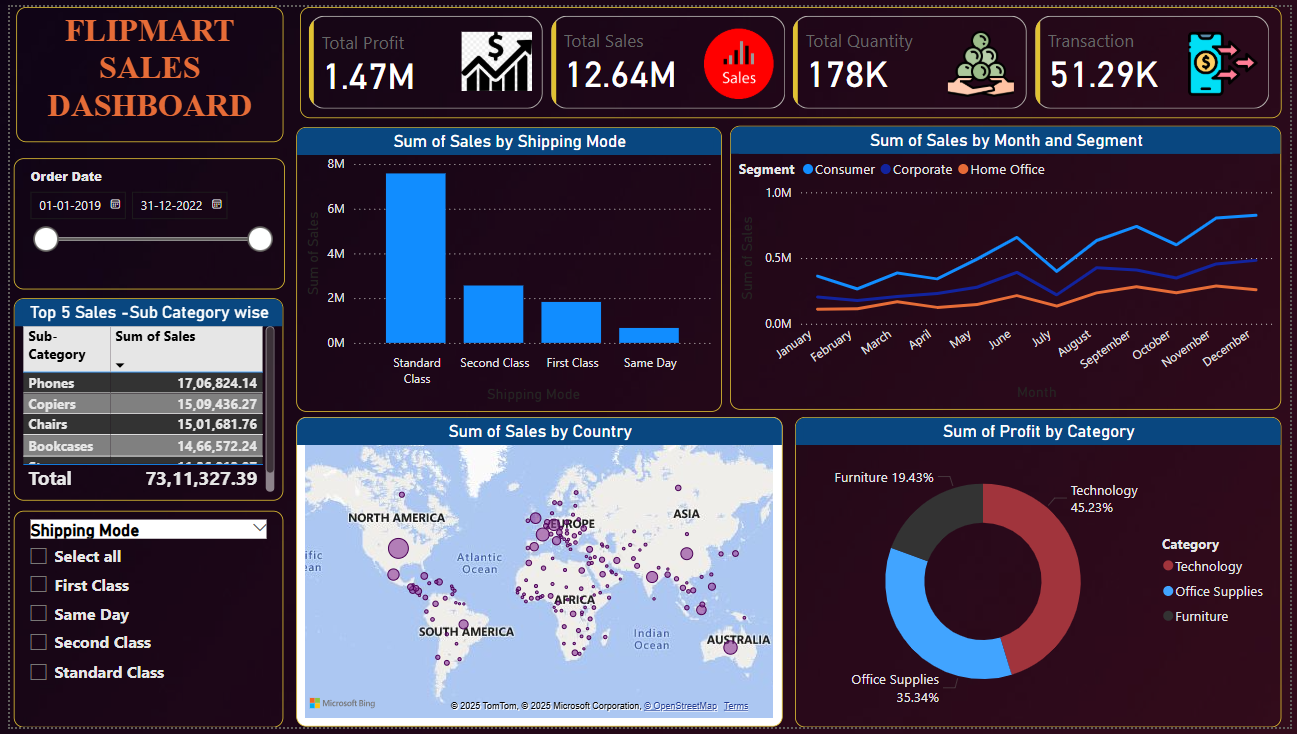

What the dashboard file says about the page in this screenshot:
{"tool":"powerbi","page":{"name":"Page 1","canvas":[1280,720],"ordinal":0},"visuals":[{"type":"clusteredColumnChart","fields":{"Y":["Sum(Sales.Sales)"],"Category":["Sales.Shipping Mode"]},"box":[286.1,119.4,425.4,284.9],"z":0},{"type":"donutChart","fields":{"Category":["Sales.Category"],"Y":["Sum(Sales.Profit)"]},"box":[784.9,410.5,483.9,309.7],"z":1000},{"type":"lineChart","fields":{"Category":["Sales.Order Date.Variation.Date Hierarchy.Month"],"Y":["Sum(Sales.Sales)"],"Series":["Sales.Segment"]},"box":[720.3,118.2,548.6,284.9],"z":2000},{"type":"map","fields":{"Category":["Sales.Country"],"Size":["Sum(Sales.Sales)"]},"box":[286.1,410.5,486.4,309.7],"z":3000},{"type":"slicer","fields":{"Values":["Sales.Shipping Mode"]},"box":[3.7,503.8,269.9,216.4],"z":4000},{"type":"slicer","fields":{"Values":["Sales.Order Date"]},"box":[7.5,151.8,267.5,130.6],"z":5000},{"type":"tableEx","title":"Top 5 Sales -Sub Category wise","fields":{"Values":["Sales.Sub-Category","Sum(Sales.Sales)"]},"box":[3.7,291.1,269.9,202.8],"z":6000},{"type":"textbox","box":[6.2,0,267.5,135.6],"z":11000},{"type":"cardVisual","fields":{"Data":["Sum(Sales.Profit)","Sum(Sales.Sales)","Sum(Sales.Quantity)","CountNonNull(Sales.Order ID)"]},"box":[289.8,0,965.3,110.7],"z":11001}]}

Visuals, with their boxes in screenshot pixels (x1, y1, x2, y2), scaled from the page's 1280x720 canvas onto the 1297x734 screenshot:
clusteredColumnChart - Sum(Sales.Sales) x Sales.Shipping Mode: (290, 122, 721, 412)
donutChart - Sales.Category x Sum(Sales.Profit): (795, 418, 1286, 733)
lineChart - Sales.Order Date.Variation.Date Hierarchy.Month x Sum(Sales.Sales): (730, 120, 1286, 411)
map - Sales.Country x Sum(Sales.Sales): (290, 418, 783, 733)
slicer - Sales.Shipping Mode: (4, 514, 277, 733)
slicer - Sales.Order Date: (8, 155, 279, 288)
"Top 5 Sales -Sub Category wise" tableEx: (4, 297, 277, 504)
textbox: (6, 0, 277, 138)
cardVisual - Sum(Sales.Profit) x Sum(Sales.Sales): (294, 0, 1272, 113)
